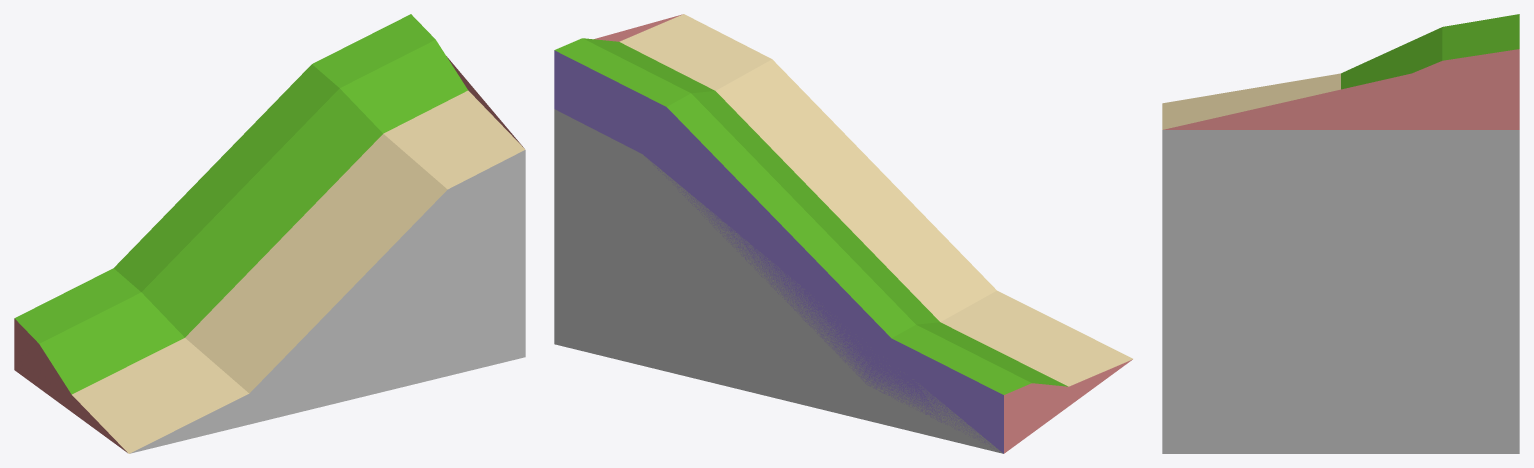
The model's file is Path_Terrain_Incline_Sharp_Edge_1x2.glb.
3 views of the same model, side by side, from view 1: azimuth 30°, elevation 25°; view 2: azimuth 150°, elevation 25°; view 3: azimuth 270°, elevation 25° (orthographic). The views are drawn at different scales.
Visible parts, largest first — view 1: Path_Terrain_Incline_Sharp_Edge_1x2; view 2: Path_Terrain_Incline_Sharp_Edge_1x2; view 3: Path_Terrain_Incline_Sharp_Edge_1x2.
Boxes of the visible parts, left/top/right/bottom form: Path_Terrain_Incline_Sharp_Edge_1x2: left=14, top=14, right=525, bottom=453; Path_Terrain_Incline_Sharp_Edge_1x2: left=554, top=14, right=1132, bottom=453; Path_Terrain_Incline_Sharp_Edge_1x2: left=1162, top=14, right=1519, bottom=453.
Size of the model in its own units: 200 by 125 by 100.
